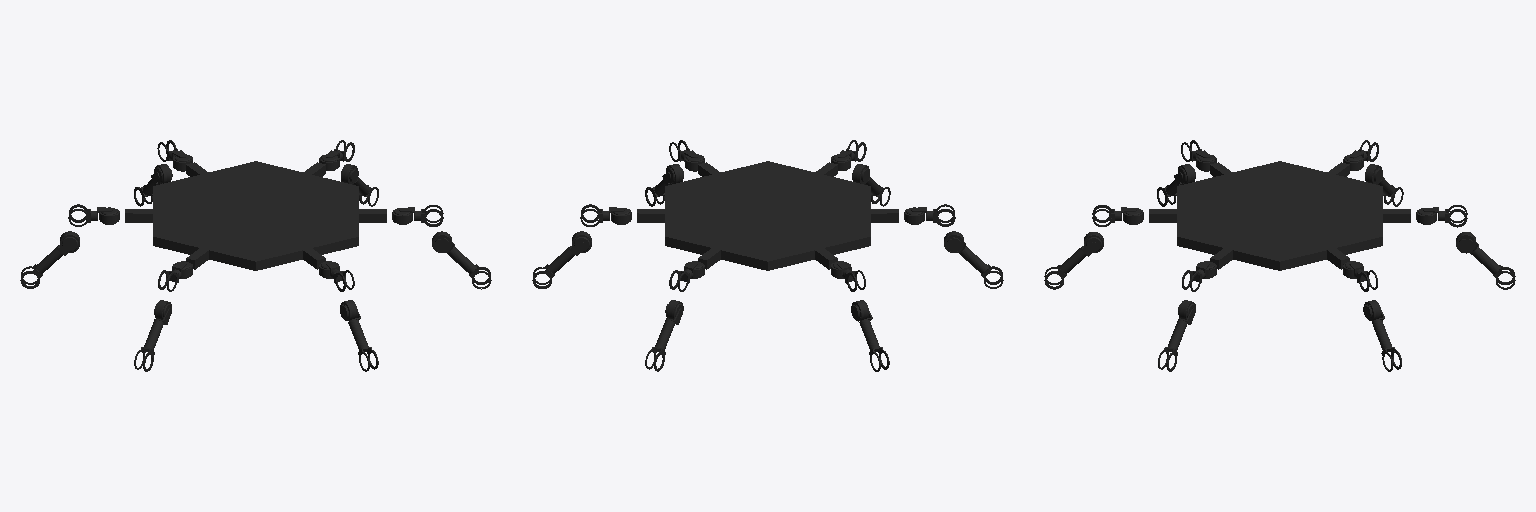
--- What the picture shows (computed from the rendered views, not written in the file) ---
3 views of the same robot in one strip: view 1: azimuth 30°, elevation 25°; view 2: azimuth 150°, elevation 25°; view 3: azimuth 270°, elevation 25° (orthographic).
Model worms with 32 links and 31 joints (18 revolute, 13 fixed), rooted at base_link, posed all joints at 0.
Visible links, largest first — view 1: MP_BODY, thigh_lr, thigh_rf, thigh_rm, thigh_rr, coxa_lr, coxa_rf, thigh_lm, thigh_lf, coxa_rr, coxa_rm; view 2: MP_BODY, thigh_lf, thigh_rr, thigh_lr, thigh_lm, coxa_rr, coxa_lf, thigh_rf, thigh_rm, coxa_lm, coxa_lr; view 3: MP_BODY, thigh_lm, thigh_rm, thigh_lf, thigh_rf, coxa_rm, coxa_lm, thigh_rr, thigh_lr, coxa_rf, coxa_lf.
Boxes of the visible links, x1=… form: MP_BODY: x1=153, y1=161, x2=358, y2=270; thigh_lr: x1=20, y1=231, x2=79, y2=288; thigh_rf: x1=432, y1=231, x2=491, y2=289; thigh_rm: x1=340, y1=300, x2=378, y2=371; thigh_rr: x1=134, y1=300, x2=171, y2=371; coxa_lr: x1=68, y1=204, x2=119, y2=226; coxa_rf: x1=392, y1=205, x2=443, y2=226; thigh_lm: x1=134, y1=164, x2=172, y2=206; thigh_lf: x1=341, y1=164, x2=378, y2=206; coxa_rr: x1=158, y1=261, x2=192, y2=291; coxa_rm: x1=319, y1=261, x2=354, y2=291; MP_BODY: x1=665, y1=161, x2=870, y2=270; thigh_lf: x1=532, y1=231, x2=591, y2=288; thigh_rr: x1=944, y1=231, x2=1003, y2=288; thigh_lr: x1=851, y1=300, x2=889, y2=371; thigh_lm: x1=645, y1=300, x2=683, y2=371; coxa_rr: x1=904, y1=204, x2=955, y2=226; coxa_lf: x1=580, y1=204, x2=631, y2=226; thigh_rf: x1=645, y1=164, x2=683, y2=206; thigh_rm: x1=852, y1=164, x2=890, y2=206; coxa_lm: x1=669, y1=261, x2=704, y2=291; coxa_lr: x1=831, y1=261, x2=865, y2=291; MP_BODY: x1=1177, y1=161, x2=1382, y2=270; thigh_lm: x1=1456, y1=232, x2=1515, y2=289; thigh_rm: x1=1044, y1=232, x2=1103, y2=289; thigh_lf: x1=1363, y1=300, x2=1401, y2=371; thigh_rf: x1=1158, y1=300, x2=1195, y2=371; coxa_rm: x1=1092, y1=205, x2=1143, y2=226; coxa_lm: x1=1416, y1=205, x2=1467, y2=227; thigh_rr: x1=1157, y1=164, x2=1195, y2=206; thigh_lr: x1=1365, y1=164, x2=1403, y2=206; coxa_rf: x1=1182, y1=261, x2=1216, y2=291; coxa_lf: x1=1343, y1=261, x2=1377, y2=291.
Size in the robot's own frame: 2 by 2.28 by 0.4291 metres.
25 mesh visuals loaded from 6 distinct referenced files (5 binary STL); not drawn: 6 (reference not matched to a file when rendering).

The robot description file, URDF, robot "worms":
<?xml version="1.0" ?>
<!-- =================================================================================== -->
<!-- |    This document was autogenerated by xacro from worms.xacro                    | -->
<!-- |    EDITING THIS FILE BY HAND IS NOT RECOMMENDED                                 | -->
<!-- =================================================================================== -->
<robot name="worms">
  <!-- <xacro:property name="thigh_offset_y" value="-0.0645" />
<xacro:property name="thigh_offset_z" value="-0.0145" /> -->
  <!-- TODO: Update component masses and inertias -->
  <!-- TODO: Add second ee, uib, and shoe -->
  <!-- Leg generation sub-macro -->
  <link name="base_link"/>
  <joint name="j_worms_attachment" type="fixed">
    <parent link="base_link"/>
    <child link="MP_BODY"/>
    <insert_block name="origin"/>
  </joint>
  <link name="MP_BODY">
    <inertial>
      <origin rpy="0 0 1.57" xyz="0 0 0"/>
      <!-- <mass value="0.97559947"/> -->
      <mass value="0.01"/>
      <inertia ixx="3.1081800" ixy="-0.25460189" ixz="2.0318174" iyy="6.3787776" iyz="0.16417863" izz="5.3316425"/>
    </inertial>
    <visual>
      <origin rpy="0 0 1.57" xyz="0 0 0"/>
      <geometry>
        <!--box size="0.102 0.109 0.106" /-->
        <mesh filename="package://worms_description/meshes/pallet.STL" scale="1 1 1"/>
      </geometry>
      <material name="Red">
        <color rgba="0.2 0.2 0.2 1.0"/>
      </material>
    </visual>
    <collision>
      <origin rpy="0 0 0" xyz="0 0 0"/>
      <geometry>
        <mesh filename="package://worms_description/meshes/pallet_coll.STL" scale="1 1 1"/>
      </geometry>
    </collision>
  </link>
  <gazebo reference="MP_BODY">
    <material>Gazebo/Red</material>
  </gazebo>
  <link name="uib_rf">
    <inertial>
      <origin rpy="0 0 0" xyz="0 -0.04 0"/>
      <mass value="0.024357719"/>
      <inertia ixx="0.0051411124" ixy="-0.00057530255" ixz="-0.000024729049" iyy="0.0081915737" iyz="-0.000019223094" izz="0.0011379812"/>
    </inertial>
    <visual>
      <origin rpy="0 0 0" xyz="0 -0.04 0"/>
      <geometry>
        <mesh filename="package://worms_description/meshes/UIB.STL" scale="1 1 1"/>
      </geometry>
      <material name="Grey">
        <color rgba="0.20 0.20 0.20 1.0"/>
      </material>
    </visual>
    <collision>
      <origin rpy="0 0 0" xyz="0 -0.04 0"/>
      <geometry>
        <mesh filename="package://worms_description/meshes/UIB.STL" scale="1 1 1"/>
      </geometry>
    </collision>
  </link>
  <link name="ee_rf">
    <inertial>
      <origin rpy="0 0 0" xyz="0 -0.0275 0"/>
      <mass value="0.024357719"/>
      <inertia ixx="0.0051411124" ixy="-0.00057530255" ixz="-0.000024729049" iyy="0.0081915737" iyz="-0.000019223094" izz="0.0011379812"/>
    </inertial>
    <visual>
      <origin rpy="0 0 0" xyz="0 -0.0275 0"/>
      <geometry>
        <mesh filename="package://worms_description/meshes/end_effector.STL" scale="1 1 1"/>
      </geometry>
      <material name="Grey">
        <color rgba="0.20 0.20 0.20 1.0"/>
      </material>
    </visual>
    <collision>
      <origin rpy="0 0 0" xyz="0 -0.0275 0"/>
      <geometry>
        <mesh filename="package://worms_description/meshes/end_effector.STL" scale="1 1 1"/>
      </geometry>
    </collision>
  </link>
  <link name="coxa_rf">
    <inertial>
      <origin rpy="0 0 0" xyz="0 -0.05 0"/>
      <mass value="0.024357719"/>
      <inertia ixx="0.0051411124" ixy="-0.00057530255" ixz="-0.000024729049" iyy="0.0081915737" iyz="-0.000019223094" izz="0.0011379812"/>
    </inertial>
    <visual>
      <origin rpy="0 0 0" xyz="0 -0.05 0"/>
      <geometry>
        <mesh filename="package://worms_description/meshes/motor_coxa.stl" scale="1 1 1"/>
      </geometry>
      <material name="Grey">
        <color rgba="0.20 0.20 0.20 1.0"/>
      </material>
    </visual>
    <collision>
      <origin rpy="0 0 0" xyz="0 -0.05 0"/>
      <geometry>
        <mesh filename="package://worms_description/meshes/motor_coxa.stl" scale="1 1 1"/>
      </geometry>
    </collision>
  </link>
  <link name="thigh_rf">
    <inertial>
      <origin rpy="0 0 0" xyz="0 -0.19999999999999998 0"/>
      <mass value="0.024357719"/>
      <inertia ixx="0.0051411124" ixy="-0.00057530255" ixz="-0.000024729049" iyy="0.0081915737" iyz="-0.000019223094" izz="0.0011379812"/>
    </inertial>
    <visual>
      <origin rpy="0 0 0" xyz="0 -0.19999999999999998 0"/>
      <geometry>
        <mesh filename="package://worms_description/meshes/motor_thigh.stl" scale="1 1 1"/>
      </geometry>
      <material name="Grey">
        <color rgba="0.20 0.20 0.20 1.0"/>
      </material>
    </visual>
    <collision>
      <origin rpy="0 0 0" xyz="0 -0.19999999999999998 0"/>
      <geometry>
        <mesh filename="package://worms_description/meshes/motor_thigh.stl" scale="1 1 1"/>
      </geometry>
    </collision>
  </link>
  <link name="shin_rf">
    <inertial>
      <origin rpy="0 0 0" xyz="0 -0.2625 0"/>
      <mass value="0.024357719"/>
      <inertia ixx="0.0051411124" ixy="-0.00057530255" ixz="-0.000024729049" iyy="0.0081915737" iyz="-0.000019223094" izz="0.0011379812"/>
    </inertial>
    <visual>
      <origin rpy="0 0 0" xyz="0 -0.2625 0"/>
      <geometry>
        <mesh filename="package://worms_description/meshes/motor_shin.stl" scale="1 1 1"/>
      </geometry>
      <material name="Grey">
        <color rgba="0.20 0.20 0.20 1.0"/>
      </material>
    </visual>
    <collision>
      <origin rpy="0 0 0" xyz="0 -0.2625 0"/>
      <geometry>
        <mesh filename="package://worms_description/meshes/motor_shin.stl" scale="1 1 1"/>
      </geometry>
    </collision>
  </link>
  <!-- Joint definitions -->
  <joint name="j_uib_rf" type="fixed">
    <parent link="MP_BODY"/>
    <child link="uib_rf"/>
    <origin rpy="0 0 1.05" xyz="0.4330 -0.2500 0.0000"/>
    <axis xyz="1 0 0"/>
    <limit effort="2.8" lower="-2.6179939" upper="2.6179939" velocity="5.6548668"/>
  </joint>
  <joint name="j_ee_rf" type="fixed">
    <parent link="uib_rf"/>
    <child link="ee_rf"/>
    <origin rpy="0 0 0" xyz="0 -0.08 0"/>
    <axis xyz="1 0 0"/>
    <limit effort="2.8" lower="-2.6179939" upper="2.6179939" velocity="5.6548668"/>
  </joint>
  <joint name="j_coxa_rf" type="revolute">
    <parent link="ee_rf"/>
    <child link="coxa_rf"/>
    <origin rpy="0 0 0" xyz="0 -0.08 0"/>
    <axis xyz="0 0 1"/>
    <limit effort="2.8" lower="-2.6179939" upper="2.6179939" velocity="5.6548668"/>
  </joint>
  <joint name="j_thigh_rf" type="revolute">
    <parent link="coxa_rf"/>
    <child link="thigh_rf"/>
    <origin rpy="0.785 0 0" xyz="0 -0.1 0"/>
    <axis xyz="1 0 0"/>
    <limit effort="2.8" lower="-2.6179939" upper="2.6179939" velocity="5.6548668"/>
  </joint>
  <joint name="j_shin_rf" type="revolute">
    <parent link="thigh_rf"/>
    <child link="shin_rf"/>
    <origin rpy="0.785 0 0" xyz="0 -0.39999999999999997 0"/>
    <axis xyz="1 0 0"/>
    <limit effort="2.8" lower="-2.6179939" upper="2.6179939" velocity="5.6548668"/>
  </joint>
  <!-- Joint transmission definitions -->
  <transmission name="t_coxa_rf">
    <type>transmission_interface/SimpleTransmission</type>
    <joint name="j_coxa_rf">
      <hardwareInterface>EffortJointInterface</hardwareInterface>
    </joint>
    <actuator name="m_coxa_rf">
      <hardwareInterface>EffortJointInterface</hardwareInterface>
      <mechanicalReduction>1</mechanicalReduction>
    </actuator>
  </transmission>
  <transmission name="t_thigh_rf">
    <type>transmission_interface/SimpleTransmission</type>
    <joint name="j_thigh_rf">
      <hardwareInterface>EffortJointInterface</hardwareInterface>
    </joint>
    <actuator name="m_thigh_rf">
      <hardwareInterface>EffortJointInterface</hardwareInterface>
      <mechanicalReduction>1</mechanicalReduction>
    </actuator>
  </transmission>
  <transmission name="t_shin_rf">
    <type>transmission_interface/SimpleTransmission</type>
    <joint name="j_shin_rf">
      <hardwareInterface>EffortJointInterface</hardwareInterface>
    </joint>
    <actuator name="m_shin_rf">
      <hardwareInterface>EffortJointInterface</hardwareInterface>
      <mechanicalReduction>1</mechanicalReduction>
    </actuator>
  </transmission>
  <!-- Gazebo material definitions -->
  <gazebo reference="uib_rf">
    <material>Gazebo/Grey</material>
  </gazebo>
  <gazebo reference="ee_rf">
    <material>Gazebo/Grey</material>
  </gazebo>
  <gazebo reference="coxa_rf">
    <material>Gazebo/Grey</material>
  </gazebo>
  <gazebo reference="thigh_rf">
    <material>Gazebo/Grey</material>
  </gazebo>
  <gazebo reference="shin_rf">
    <material>Gazebo/Grey</material>
  </gazebo>
  <link name="uib_rm">
    <inertial>
      <origin rpy="0 0 0" xyz="0 -0.04 0"/>
      <mass value="0.024357719"/>
      <inertia ixx="0.0051411124" ixy="-0.00057530255" ixz="-0.000024729049" iyy="0.0081915737" iyz="-0.000019223094" izz="0.0011379812"/>
    </inertial>
    <visual>
      <origin rpy="0 0 0" xyz="0 -0.04 0"/>
      <geometry>
        <mesh filename="package://worms_description/meshes/UIB.STL" scale="1 1 1"/>
      </geometry>
      <material name="Grey">
        <color rgba="0.20 0.20 0.20 1.0"/>
      </material>
    </visual>
    <collision>
      <origin rpy="0 0 0" xyz="0 -0.04 0"/>
      <geometry>
        <mesh filename="package://worms_description/meshes/UIB.STL" scale="1 1 1"/>
      </geometry>
    </collision>
  </link>
  <link name="ee_rm">
    <inertial>
      <origin rpy="0 0 0" xyz="0 -0.0275 0"/>
      <mass value="0.024357719"/>
      <inertia ixx="0.0051411124" ixy="-0.00057530255" ixz="-0.000024729049" iyy="0.0081915737" iyz="-0.000019223094" izz="0.0011379812"/>
    </inertial>
    <visual>
      <origin rpy="0 0 0" xyz="0 -0.0275 0"/>
      <geometry>
        <mesh filename="package://worms_description/meshes/end_effector.STL" scale="1 1 1"/>
      </geometry>
      <material name="Grey">
        <color rgba="0.20 0.20 0.20 1.0"/>
      </material>
    </visual>
    <collision>
      <origin rpy="0 0 0" xyz="0 -0.0275 0"/>
      <geometry>
        <mesh filename="package://worms_description/meshes/end_effector.STL" scale="1 1 1"/>
      </geometry>
    </collision>
  </link>
  <link name="coxa_rm">
    <inertial>
      <origin rpy="0 0 0" xyz="0 -0.05 0"/>
      <mass value="0.024357719"/>
      <inertia ixx="0.0051411124" ixy="-0.00057530255" ixz="-0.000024729049" iyy="0.0081915737" iyz="-0.000019223094" izz="0.0011379812"/>
    </inertial>
    <visual>
      <origin rpy="0 0 0" xyz="0 -0.05 0"/>
      <geometry>
        <mesh filename="package://worms_description/meshes/motor_coxa.stl" scale="1 1 1"/>
      </geometry>
      <material name="Grey">
        <color rgba="0.20 0.20 0.20 1.0"/>
      </material>
    </visual>
    <collision>
      <origin rpy="0 0 0" xyz="0 -0.05 0"/>
      <geometry>
        <mesh filename="package://worms_description/meshes/motor_coxa.stl" scale="1 1 1"/>
      </geometry>
    </collision>
  </link>
  <link name="thigh_rm">
    <inertial>
      <origin rpy="0 0 0" xyz="0 -0.19999999999999998 0"/>
      <mass value="0.024357719"/>
      <inertia ixx="0.0051411124" ixy="-0.00057530255" ixz="-0.000024729049" iyy="0.0081915737" iyz="-0.000019223094" izz="0.0011379812"/>
    </inertial>
    <visual>
      <origin rpy="0 0 0" xyz="0 -0.19999999999999998 0"/>
      <geometry>
        <mesh filename="package://worms_description/meshes/motor_thigh.stl" scale="1 1 1"/>
      </geometry>
      <material name="Grey">
        <color rgba="0.20 0.20 0.20 1.0"/>
      </material>
    </visual>
    <collision>
      <origin rpy="0 0 0" xyz="0 -0.19999999999999998 0"/>
      <geometry>
        <mesh filename="package://worms_description/meshes/motor_thigh.stl" scale="1 1 1"/>
      </geometry>
    </collision>
  </link>
  <link name="shin_rm">
    <inertial>
      <origin rpy="0 0 0" xyz="0 -0.2625 0"/>
      <mass value="0.024357719"/>
      <inertia ixx="0.0051411124" ixy="-0.00057530255" ixz="-0.000024729049" iyy="0.0081915737" iyz="-0.000019223094" izz="0.0011379812"/>
    </inertial>
    <visual>
      <origin rpy="0 0 0" xyz="0 -0.2625 0"/>
      <geometry>
        <mesh filename="package://worms_description/meshes/motor_shin.stl" scale="1 1 1"/>
      </geometry>
      <material name="Grey">
        <color rgba="0.20 0.20 0.20 1.0"/>
      </material>
    </visual>
    <collision>
      <origin rpy="0 0 0" xyz="0 -0.2625 0"/>
      <geometry>
        <mesh filename="package://worms_description/meshes/motor_shin.stl" scale="1 1 1"/>
      </geometry>
    </collision>
  </link>
  <!-- Joint definitions -->
  <joint name="j_uib_rm" type="fixed">
    <parent link="MP_BODY"/>
    <child link="uib_rm"/>
    <origin rpy="0 0 0.0" xyz="0.0000 -0.5000 0.0000"/>
    <axis xyz="1 0 0"/>
    <limit effort="2.8" lower="-2.6179939" upper="2.6179939" velocity="5.6548668"/>
  </joint>
  <joint name="j_ee_rm" type="fixed">
    <parent link="uib_rm"/>
    <child link="ee_rm"/>
    <origin rpy="0 0 0" xyz="0 -0.08 0"/>
    <axis xyz="1 0 0"/>
    <limit effort="2.8" lower="-2.6179939" upper="2.6179939" velocity="5.6548668"/>
  </joint>
  <joint name="j_coxa_rm" type="revolute">
    <parent link="ee_rm"/>
    <child link="coxa_rm"/>
    <origin rpy="0 0 0" xyz="0 -0.08 0"/>
    <axis xyz="0 0 1"/>
    <limit effort="2.8" lower="-2.6179939" upper="2.6179939" velocity="5.6548668"/>
  </joint>
  <joint name="j_thigh_rm" type="revolute">
    <parent link="coxa_rm"/>
    <child link="thigh_rm"/>
    <origin rpy="0.785 0 0" xyz="0 -0.1 0"/>
    <axis xyz="1 0 0"/>
    <limit effort="2.8" lower="-2.6179939" upper="2.6179939" velocity="5.6548668"/>
  </joint>
  <joint name="j_shin_rm" type="revolute">
    <parent link="thigh_rm"/>
    <child link="shin_rm"/>
    <origin rpy="0.785 0 0" xyz="0 -0.39999999999999997 0"/>
    <axis xyz="1 0 0"/>
    <limit effort="2.8" lower="-2.6179939" upper="2.6179939" velocity="5.6548668"/>
  </joint>
  <!-- Joint transmission definitions -->
  <transmission name="t_coxa_rm">
    <type>transmission_interface/SimpleTransmission</type>
    <joint name="j_coxa_rm">
      <hardwareInterface>EffortJointInterface</hardwareInterface>
    </joint>
    <actuator name="m_coxa_rm">
      <hardwareInterface>EffortJointInterface</hardwareInterface>
      <mechanicalReduction>1</mechanicalReduction>
    </actuator>
  </transmission>
  <transmission name="t_thigh_rm">
    <type>transmission_interface/SimpleTransmission</type>
    <joint name="j_thigh_rm">
      <hardwareInterface>EffortJointInterface</hardwareInterface>
    </joint>
    <actuator name="m_thigh_rm">
      <hardwareInterface>EffortJointInterface</hardwareInterface>
      <mechanicalReduction>1</mechanicalReduction>
    </actuator>
  </transmission>
  <transmission name="t_shin_rm">
    <type>transmission_interface/SimpleTransmission</type>
    <joint name="j_shin_rm">
      <hardwareInterface>EffortJointInterface</hardwareInterface>
    </joint>
    <actuator name="m_shin_rm">
      <hardwareInterface>EffortJointInterface</hardwareInterface>
      <mechanicalReduction>1</mechanicalReduction>
    </actuator>
  </transmission>
  <!-- Gazebo material definitions -->
  <gazebo reference="uib_rm">
    <material>Gazebo/Grey</material>
  </gazebo>
  <gazebo reference="ee_rm">
    <material>Gazebo/Grey</material>
  </gazebo>
  <gazebo reference="coxa_rm">
    <material>Gazebo/Grey</material>
  </gazebo>
  <gazebo reference="thigh_rm">
    <material>Gazebo/Grey</material>
  </gazebo>
  <gazebo reference="shin_rm">
    <material>Gazebo/Grey</material>
  </gazebo>
  <link name="uib_rr">
    <inertial>
      <origin rpy="0 0 0" xyz="0 -0.04 0"/>
      <mass value="0.024357719"/>
      <inertia ixx="0.0051411124" ixy="-0.00057530255" ixz="-0.000024729049" iyy="0.0081915737" iyz="-0.000019223094" izz="0.0011379812"/>
    </inertial>
    <visual>
      <origin rpy="0 0 0" xyz="0 -0.04 0"/>
      <geometry>
        <mesh filename="package://worms_description/meshes/UIB.STL" scale="1 1 1"/>
      </geometry>
      <material name="Grey">
        <color rgba="0.20 0.20 0.20 1.0"/>
      </material>
    </visual>
    <collision>
      <origin rpy="0 0 0" xyz="0 -0.04 0"/>
      <geometry>
        <mesh filename="package://worms_description/meshes/UIB.STL" scale="1 1 1"/>
      </geometry>
    </collision>
  </link>
  <link name="ee_rr">
    <inertial>
      <origin rpy="0 0 0" xyz="0 -0.0275 0"/>
      <mass value="0.024357719"/>
      <inertia ixx="0.0051411124" ixy="-0.00057530255" ixz="-0.000024729049" iyy="0.0081915737" iyz="-0.000019223094" izz="0.0011379812"/>
    </inertial>
    <visual>
      <origin rpy="0 0 0" xyz="0 -0.0275 0"/>
      <geometry>
        <mesh filename="package://worms_description/meshes/end_effector.STL" scale="1 1 1"/>
      </geometry>
      <material name="Grey">
        <color rgba="0.20 0.20 0.20 1.0"/>
      </material>
    </visual>
    <collision>
      <origin rpy="0 0 0" xyz="0 -0.0275 0"/>
      <geometry>
        <mesh filename="package://worms_description/meshes/end_effector.STL" scale="1 1 1"/>
      </geometry>
    </collision>
  </link>
  <link name="coxa_rr">
    <inertial>
      <origin rpy="0 0 0" xyz="0 -0.05 0"/>
      <mass value="0.024357719"/>
      <inertia ixx="0.0051411124" ixy="-0.00057530255" ixz="-0.000024729049" iyy="0.0081915737" iyz="-0.000019223094" izz="0.0011379812"/>
    </inertial>
    <visual>
      <origin rpy="0 0 0" xyz="0 -0.05 0"/>
      <geometry>
        <mesh filename="package://worms_description/meshes/motor_coxa.stl" scale="1 1 1"/>
      </geometry>
      <material name="Grey">
        <color rgba="0.20 0.20 0.20 1.0"/>
      </material>
    </visual>
    <collision>
      <origin rpy="0 0 0" xyz="0 -0.05 0"/>
      <geometry>
        <mesh filename="package://worms_description/meshes/motor_coxa.stl" scale="1 1 1"/>
      </geometry>
    </collision>
  </link>
  <link name="thigh_rr">
    <inertial>
      <origin rpy="0 0 0" xyz="0 -0.19999999999999998 0"/>
      <mass value="0.024357719"/>
      <inertia ixx="0.0051411124" ixy="-0.00057530255" ixz="-0.000024729049" iyy="0.0081915737" iyz="-0.000019223094" izz="0.0011379812"/>
    </inertial>
    <visual>
      <origin rpy="0 0 0" xyz="0 -0.19999999999999998 0"/>
      <geometry>
        <mesh filename="package://worms_description/meshes/motor_thigh.stl" scale="1 1 1"/>
      </geometry>
      <material name="Grey">
        <color rgba="0.20 0.20 0.20 1.0"/>
      </material>
    </visual>
    <collision>
      <origin rpy="0 0 0" xyz="0 -0.19999999999999998 0"/>
      <geometry>
        <mesh filename="package://worms_description/meshes/motor_thigh.stl" scale="1 1 1"/>
      </geometry>
    </collision>
  </link>
  <link name="shin_rr">
    <inertial>
      <origin rpy="0 0 0" xyz="0 -0.2625 0"/>
      <mass value="0.024357719"/>
      <inertia ixx="0.0051411124" ixy="-0.00057530255" ixz="-0.000024729049" iyy="0.0081915737" iyz="-0.000019223094" izz="0.0011379812"/>
    </inertial>
    <visual>
      <origin rpy="0 0 0" xyz="0 -0.2625 0"/>
      <geometry>
        <mesh filename="package://worms_description/meshes/motor_shin.stl" scale="1 1 1"/>
      </geometry>
      <material name="Grey">
        <color rgba="0.20 0.20 0.20 1.0"/>
      </material>
    </visual>
    <collision>
      <origin rpy="0 0 0" xyz="0 -0.2625 0"/>
      <geometry>
        <mesh filename="package://worms_description/meshes/motor_shin.stl" scale="1 1 1"/>
      </geometry>
    </collision>
  </link>
  <!-- Joint definitions -->
  <joint name="j_uib_rr" type="fixed">
    <parent link="MP_BODY"/>
    <child link="uib_rr"/>
    <origin rpy="0 0 -1.0400000000000003" xyz="-0.4330 -0.2500 0.0000"/>
    <axis xyz="1 0 0"/>
    <limit effort="2.8" lower="-2.6179939" upper="2.6179939" velocity="5.6548668"/>
  </joint>
  <joint name="j_ee_rr" type="fixed">
    <parent link="uib_rr"/>
    <child link="ee_rr"/>
    <origin rpy="0 0 0" xyz="0 -0.08 0"/>
    <axis xyz="1 0 0"/>
    <limit effort="2.8" lower="-2.6179939" upper="2.6179939" velocity="5.6548668"/>
  </joint>
  <joint name="j_coxa_rr" type="revolute">
    <parent link="ee_rr"/>
    <child link="coxa_rr"/>
    <origin rpy="0 0 0" xyz="0 -0.08 0"/>
    <axis xyz="0 0 1"/>
    <limit effort="2.8" lower="-2.6179939" upper="2.6179939" velocity="5.6548668"/>
  </joint>
  <joint name="j_thigh_rr" type="revolute">
    <parent link="coxa_rr"/>
    <child link="thigh_rr"/>
    <origin rpy="0.785 0 0" xyz="0 -0.1 0"/>
    <axis xyz="1 0 0"/>
    <limit effort="2.8" lower="-2.6179939" upper="2.6179939" velocity="5.6548668"/>
  </joint>
  <joint name="j_shin_rr" type="revolute">
    <parent link="thigh_rr"/>
    <child link="shin_rr"/>
    <origin rpy="0.785 0 0" xyz="0 -0.39999999999999997 0"/>
    <axis xyz="1 0 0"/>
    <limit effort="2.8" lower="-2.6179939" upper="2.6179939" velocity="5.6548668"/>
  </joint>
  <!-- Joint transmission definitions -->
  <transmission name="t_coxa_rr">
    <type>transmission_interface/SimpleTransmission</type>
    <joint name="j_coxa_rr">
      <hardwareInterface>EffortJointInterface</hardwareInterface>
    </joint>
    <actuator name="m_coxa_rr">
      <hardwareInterface>EffortJointInterface</hardwareInterface>
      <mechanicalReduction>1</mechanicalReduction>
    </actuator>
  </transmission>
  <transmission name="t_thigh_rr">
    <type>transmission_interface/SimpleTransmission</type>
    <joint name="j_thigh_rr">
      <hardwareInterface>EffortJointInterface</hardwareInterface>
    </joint>
    <actuator name="m_thigh_rr">
      <hardwareInterface>EffortJointInterface</hardwareInterface>
      <mechanicalReduction>1</mechanicalReduction>
    </actuator>
  </transmission>
  <transmission name="t_shin_rr">
    <type>transmission_interface/SimpleTransmission</type>
    <joint name="j_shin_rr">
      <hardwareInterface>EffortJointInterface</hardwareInterface>
    </joint>
    <actuator name="m_shin_rr">
      <hardwareInterface>EffortJointInterface</hardwareInterface>
      <mechanicalReduction>1</mechanicalReduction>
    </actuator>
  </transmission>
  <!-- Gazebo material definitions -->
  <gazebo reference="uib_rr">
    <material>Gazebo/Grey</material>
  </gazebo>
  <gazebo reference="ee_rr">
    <material>Gazebo/Grey</material>
  </gazebo>
  <gazebo reference="coxa_rr">
    <material>Gazebo/Grey</material>
  </gazebo>
  <gazebo reference="thigh_rr">
    <material>Gazebo/Grey</material>
  </gazebo>
  <gazebo reference="shin_rr">
    <material>Gazebo/Grey</material>
  </gazebo>
  <link name="uib_lf">
    <inertial>
      <origin rpy="0 0 0" xyz="0 -0.04 0"/>
      <mass value="0.024357719"/>
      <inertia ixx="0.0051411124" ixy="-0.00057530255" ixz="-0.000024729049" iyy="0.0081915737" iyz="-0.000019223094" izz="0.0011379812"/>
    </inertial>
    <visual>
      <origin rpy="0 0 0" xyz="0 -0.04 0"/>
      <geometry>
        <mesh filename="package://worms_description/meshes/UIB.STL" scale="1 1 1"/>
      </geometry>
      <material name="Grey">
        <color rgba="0.20 0.20 0.20 1.0"/>
      </material>
    </visual>
    <collision>
      <origin rpy="0 0 0" xyz="0 -0.04 0"/>
      <geometry>
        <mesh filename="package://worms_description/meshes/UIB.STL" scale="1 1 1"/>
      </geometry>
    </collision>
  </link>
  <link name="ee_lf">
    <inertial>
      <origin rpy="0 0 0" xyz="0 -0.0275 0"/>
      <mass value="0.024357719"/>
      <inertia ixx="0.0051411124" ixy="-0.00057530255" ixz="-0.000024729049" iyy="0.0081915737" iyz="-0.000019223094" izz="0.0011379812"/>
    </inertial>
    <visual>
      <origin rpy="0 0 0" xyz="0 -0.0275 0"/>
      <geometry>
        <mesh filename="package://worms_description/meshes/end_effector.STL" scale="1 1 1"/>
      </geometry>
      <material name="Grey">
        <color rgba="0.20 0.20 0.20 1.0"/>
      </material>
    </visual>
    <collision>
      <origin rpy="0 0 0" xyz="0 -0.0275 0"/>
      <geometry>
        <mesh filename="package://worms_description/meshes/end_effector.STL" scale="1 1 1"/>
      </geometry>
    </collision>
  </link>
  <link name="coxa_lf">
    <inertial>
      <origin rpy="0 0 0" xyz="0 -0.05 0"/>
      <mass value="0.024357719"/>
      <inertia ixx="0.0051411124" ixy="-0.00057530255" ixz="-0.000024729049" iyy="0.0081915737" iyz="-0.000019223094" izz="0.0011379812"/>
    </inertial>
    <visual>
      <origin rpy="0 0 0" xyz="0 -0.05 0"/>
      <geometry>
        <mesh filename="package://worms_description/meshes/motor_coxa.stl" scale="1 1 1"/>
      </geometry>
      <material name="Grey">
        <color rgba="0.20 0.20 0.20 1.0"/>
      </material>
    </visual>
    <collision>
      <origin rpy="0 0 0" xyz="0 -0.05 0"/>
      <geometry>
        <mesh filename="package://worms_description/meshes/motor_coxa.stl" scale="1 1 1"/>
      </geometry>
    </collision>
  </link>
  <link name="thigh_lf">
    <inertial>
      <origin rpy="0 0 0" xyz="0 -0.19999999999999998 0"/>
      <mass value="0.024357719"/>
      <inertia ixx="0.0051411124" ixy="-0.00057530255" ixz="-0.000024729049" iyy="0.0081915737" iyz="-0.000019223094" izz="0.0011379812"/>
    </inertial>
    <visual>
      <origin rpy="0 0 0" xyz="0 -0.19999999999999998 0"/>
      <geometry>
        <mesh filename="package://worms_description/meshes/motor_thigh.stl" scale="1 1 1"/>
      </geometry>
      <material name="Grey">
        <color rgba="0.20 0.20 0.20 1.0"/>
      </material>
    </visual>
    <collision>
      <origin rpy="0 0 0" xyz="0 -0.19999999999999998 0"/>
      <geometry>
        <mesh filename="package://worms_description/meshes/motor_thigh.stl" scale="1 1 1"/>
      </geometry>
    </collision>
  </link>
  <link name="shin_lf">
    <inertial>
      <origin rpy="0 0 0" xyz="0 -0.2625 0"/>
      <mass value="0.024357719"/>
      <inertia ixx="0.0051411124" ixy="-0.00057530255" ixz="-0.000024729049" iyy="0.0081915737" iyz="-0.000019223094" izz="0.0011379812"/>
    </inertial>
    <visual>
      <origin rpy="0 0 0" xyz="0 -0.2625 0"/>
      <geometry>
        <mesh filename="package://worms_description/meshes/motor_shin.stl" scale="1 1 1"/>
      </geometry>
      <material name="Grey">
        <color rgba="0.20 0.20 0.20 1.0"/>
      </material>
    </visual>
    <collision>
      <origin rpy="0 0 0" xyz="0 -0.2625 0"/>
      <geometry>
        <mesh filename="package://worms_description/meshes/motor_shin.stl" scale="1 1 1"/>
      </geometry>
    </collision>
  </link>
  <!-- Joint definitions -->
  <joint name="j_uib_lf" type="fixed">
    <parent link="MP_BODY"/>
    <child link="uib_lf"/>
    <origin rpy="0 0 2.09" xyz="0.4330 0.2500 0.0000"/>
    <axis xyz="1 0 0"/>
    <limit effort="2.8" lower="-2.6179939" upper="2.6179939" velocity="5.6548668"/>
  </joint>
  <joint name="j_ee_lf" type="fixed">
    <parent link="uib_lf"/>
    <child link="ee_lf"/>
    <origin rpy="0 0 0" xyz="0 -0.08 0"/>
    <axis xyz="1 0 0"/>
    <limit effort="2.8" lower="-2.6179939" upper="2.6179939" velocity="5.6548668"/>
  </joint>
  <joint name="j_coxa_lf" type="revolute">
    <parent link="ee_lf"/>
    <child link="coxa_lf"/>
    <origin rpy="0 0 0" xyz="0 -0.08 0"/>
    <axis xyz="0 0 1"/>
    <limit effort="2.8" lower="-2.6179939" upper="2.6179939" velocity="5.6548668"/>
  </joint>
  <joint name="j_thigh_lf" type="revolute">
    <parent link="coxa_lf"/>
    <child link="thigh_lf"/>
    <origin rpy="0.785 0 0" xyz="0 -0.1 0"/>
    <axis xyz="1 0 0"/>
    <limit effort="2.8" lower="-2.6179939" upper="2.6179939" velocity="5.6548668"/>
  </joint>
  <joint name="j_shin_lf" type="revolute">
    <parent link="thigh_lf"/>
    <child link="shin_lf"/>
    <origin rpy="0.785 0 0" xyz="0 -0.39999999999999997 0"/>
    <axis xyz="1 0 0"/>
    <limit effort="2.8" lower="-2.6179939" upper="2.6179939" velocity="5.6548668"/>
  </joint>
  <!-- Joint transmission definitions -->
  <transmission name="t_coxa_lf">
    <type>transmission_interface/SimpleTransmission</type>
    <joint name="j_coxa_lf">
      <hardwareInterface>EffortJointInterface</hardwareInterface>
    </joint>
    <actuator name="m_coxa_lf">
      <hardwareInterface>EffortJointInterface</hardwareInterface>
      <mechanicalReduction>1</mechanicalReduction>
    </actuator>
  </transmission>
  <transmission name="t_thigh_lf">
    <type>transmission_interface/SimpleTransmission</type>
    <joint name="j_thigh_lf">
      <hardwareInterface>EffortJointInterface</hardwareInterface>
    </joint>
    <actuator name="m_thigh_lf">
      <hardwareInterface>EffortJointInterface</hardwareInterface>
      <mechanicalReduction>1</mechanicalReduction>
    </actuator>
  </transmission>
  <transmission name="t_shin_lf">
    <type>transmission_interface/SimpleTransmission</type>
    <joint name="j_shin_lf">
      <hardwareInterface>EffortJointInterface</hardwareInterface>
    </joint>
    <actuator name="m_shin_lf">
      <hardwareInterface>EffortJointInterface</hardwareInterface>
      <mechanicalReduction>1</mechanicalReduction>
    </actuator>
  </transmission>
  <!-- Gazebo material definitions -->
  <gazebo reference="uib_lf">
    <material>Gazebo/Grey</material>
  </gazebo>
  <gazebo reference="ee_lf">
    <material>Gazebo/Grey</material>
  </gazebo>
  <gazebo reference="coxa_lf">
    <material>Gazebo/Grey</material>
  </gazebo>
  <gazebo reference="thigh_lf">
    <material>Gazebo/Grey</material>
  </gazebo>
  <gazebo reference="shin_lf">
    <material>Gazebo/Grey</material>
  </gazebo>
  <link name="uib_lm">
    <inertial>
      <origin rpy="0 0 0" xyz="0 -0.04 0"/>
      <mass value="0.024357719"/>
      <inertia ixx="0.0051411124" ixy="-0.00057530255" ixz="-0.000024729049" iyy="0.0081915737" iyz="-0.000019223094" izz="0.0011379812"/>
    </inertial>
    <visual>
      <origin rpy="0 0 0" xyz="0 -0.04 0"/>
      <geometry>
        <mesh filename="package://worms_description/meshes/UIB.STL" scale="1 1 1"/>
      </geometry>
      <material name="Grey">
        <color rgba="0.20 0.20 0.20 1.0"/>
      </material>
    </visual>
    <collision>
      <origin rpy="0 0 0" xyz="0 -0.04 0"/>
      <geometry>
        <mesh filename="package://worms_description/meshes/UIB.STL" scale="1 1 1"/>
      </geometry>
    </collision>
  </link>
  <link name="ee_lm">
    <inertial>
      <origin rpy="0 0 0" xyz="0 -0.0275 0"/>
      <mass value="0.024357719"/>
      <inertia ixx="0.0051411124" ixy="-0.00057530255" ixz="-0.000024729049" iyy="0.0081915737" iyz="-0.000019223094" izz="0.0011379812"/>
    </inertial>
    <visual>
      <origin rpy="0 0 0" xyz="0 -0.0275 0"/>
      <geometry>
        <mesh filename="package://worms_description/meshes/end_effector.STL" scale="1 1 1"/>
      </geometry>
      <material name="Grey">
        <color rgba="0.20 0.20 0.20 1.0"/>
      </material>
    </visual>
    <collision>
      <origin rpy="0 0 0" xyz="0 -0.0275 0"/>
      <geometry>
        <mesh filename="package://worms_description/meshes/end_effector.STL" scale="1 1 1"/>
      </geometry>
    </collision>
  </link>
  <link name="coxa_lm">
    <inertial>
      <origin rpy="0 0 0" xyz="0 -0.05 0"/>
      <mass value="0.024357719"/>
      <inertia ixx="0.0051411124" ixy="-0.00057530255" ixz="-0.000024729049" iyy="0.0081915737" iyz="-0.000019223094" izz="0.0011379812"/>
    </inertial>
    <visual>
      <origin rpy="0 0 0" xyz="0 -0.05 0"/>
      <geometry>
        <mesh filename="package://worms_description/meshes/motor_coxa.stl" scale="1 1 1"/>
      </geometry>
      <material name="Grey">
        <color rgba="0.20 0.20 0.20 1.0"/>
      </material>
    </visual>
    <collision>
      <origin rpy="0 0 0" xyz="0 -0.05 0"/>
      <geometry>
        <mesh filename="package://worms_description/meshes/motor_coxa.stl" scale="1 1 1"/>
      </geometry>
    </collision>
  </link>
  <link name="thigh_lm">
    <inertial>
      <origin rpy="0 0 0" xyz="0 -0.19999999999999998 0"/>
      <mass value="0.024357719"/>
      <inertia ixx="0.0051411124" ixy="-0.00057530255" ixz="-0.000024729049" iyy="0.0081915737" iyz="-0.000019223094" izz="0.0011379812"/>
    </inertial>
    <visual>
      <origin rpy="0 0 0" xyz="0 -0.19999999999999998 0"/>
      <geometry>
        <mesh filename="package://worms_description/meshes/motor_thigh.stl" scale="1 1 1"/>
      </geometry>
      <material name="Grey">
        <color rgba="0.20 0.20 0.20 1.0"/>
      </material>
    </visual>
    <collision>
      <origin rpy="0 0 0" xyz="0 -0.19999999999999998 0"/>
      <geometry>
        <mesh filename="package://worms_description/meshes/motor_thigh.stl" scale="1 1 1"/>
      </geometry>
    </collision>
  </link>
  <link name="shin_lm">
    <inertial>
      <origin rpy="0 0 0" xyz="0 -0.2625 0"/>
      <mass value="0.024357719"/>
      <inertia ixx="0.0051411124" ixy="-0.00057530255" ixz="-0.000024729049" iyy="0.0081915737" iyz="-0.000019223094" izz="0.0011379812"/>
    </inertial>
    <visual>
      <origin rpy="0 0 0" xyz="0 -0.2625 0"/>
      <geometry>
        <mesh filename="package://worms_description/meshes/motor_shin.stl" scale="1 1 1"/>
      </geometry>
      <material name="Grey">
        <color rgba="0.20 0.20 0.20 1.0"/>
      </material>
    </visual>
    <collision>
      <origin rpy="0 0 0" xyz="0 -0.2625 0"/>
      <geometry>
        <mesh filename="package://worms_description/meshes/motor_shin.stl" scale="1 1 1"/>
      </geometry>
    </collision>
  </link>
  <!-- Joint definitions -->
  <joint name="j_uib_lm" type="fixed">
    <parent link="MP_BODY"/>
    <child link="uib_lm"/>
    <origin rpy="0 0 3.14" xyz="0.0000 0.5000 0.0000"/>
    <axis xyz="1 0 0"/>
    <limit effort="2.8" lower="-2.6179939" upper="2.6179939" velocity="5.6548668"/>
  </joint>
  <joint name="j_ee_lm" type="fixed">
    <parent link="uib_lm"/>
    <child link="ee_lm"/>
    <origin rpy="0 0 0" xyz="0 -0.08 0"/>
    <axis xyz="1 0 0"/>
    <limit effort="2.8" lower="-2.6179939" upper="2.6179939" velocity="5.6548668"/>
  </joint>
  <joint name="j_coxa_lm" type="revolute">
    <parent link="ee_lm"/>
    <child link="coxa_lm"/>
    <origin rpy="0 0 0" xyz="0 -0.08 0"/>
    <axis xyz="0 0 1"/>
    <limit effort="2.8" lower="-2.6179939" upper="2.6179939" velocity="5.6548668"/>
  </joint>
  <joint name="j_thigh_lm" type="revolute">
    <parent link="coxa_lm"/>
    <child link="thigh_lm"/>
    <origin rpy="0.785 0 0" xyz="0 -0.1 0"/>
    <axis xyz="1 0 0"/>
    <limit effort="2.8" lower="-2.6179939" upper="2.6179939" velocity="5.6548668"/>
  </joint>
  <joint name="j_shin_lm" type="revolute">
    <parent link="thigh_lm"/>
    <child link="shin_lm"/>
    <origin rpy="0.785 0 0" xyz="0 -0.39999999999999997 0"/>
    <axis xyz="1 0 0"/>
    <limit effort="2.8" lower="-2.6179939" upper="2.6179939" velocity="5.6548668"/>
  </joint>
  <!-- Joint transmission definitions -->
  <transmission name="t_coxa_lm">
    <type>transmission_interface/SimpleTransmission</type>
    <joint name="j_coxa_lm">
      <hardwareInterface>EffortJointInterface</hardwareInterface>
    </joint>
    <actuator name="m_coxa_lm">
      <hardwareInterface>EffortJointInterface</hardwareInterface>
      <mechanicalReduction>1</mechanicalReduction>
    </actuator>
  </transmission>
  <transmission name="t_thigh_lm">
    <type>transmission_interface/SimpleTransmission</type>
    <joint name="j_thigh_lm">
      <hardwareInterface>EffortJointInterface</hardwareInterface>
    </joint>
    <actuator name="m_thigh_lm">
      <hardwareInterface>EffortJointInterface</hardwareInterface>
      <mechanicalReduction>1</mechanicalReduction>
    </actuator>
  </transmission>
  <transmission name="t_shin_lm">
    <type>transmission_interface/SimpleTransmission</type>
    <joint name="j_shin_lm">
      <hardwareInterface>EffortJointInterface</hardwareInterface>
    </joint>
    <actuator name="m_shin_lm">
      <hardwareInterface>EffortJointInterface</hardwareInterface>
      <mechanicalReduction>1</mechanicalReduction>
    </actuator>
  </transmission>
  <!-- Gazebo material definitions -->
  <gazebo reference="uib_lm">
    <material>Gazebo/Grey</material>
  </gazebo>
  <gazebo reference="ee_lm">
    <material>Gazebo/Grey</material>
  </gazebo>
  <gazebo reference="coxa_lm">
    <material>Gazebo/Grey</material>
  </gazebo>
  <gazebo reference="thigh_lm">
    <material>Gazebo/Grey</material>
  </gazebo>
  <gazebo reference="shin_lm">
    <material>Gazebo/Grey</material>
  </gazebo>
  <link name="uib_lr">
    <inertial>
      <origin rpy="0 0 0" xyz="0 -0.04 0"/>
      <mass value="0.024357719"/>
      <inertia ixx="0.0051411124" ixy="-0.00057530255" ixz="-0.000024729049" iyy="0.0081915737" iyz="-0.000019223094" izz="0.0011379812"/>
    </inertial>
    <visual>
      <origin rpy="0 0 0" xyz="0 -0.04 0"/>
      <geometry>
        <mesh filename="package://worms_description/meshes/UIB.STL" scale="1 1 1"/>
      </geometry>
      <material name="Grey">
        <color rgba="0.20 0.20 0.20 1.0"/>
      </material>
    </visual>
    <collision>
      <origin rpy="0 0 0" xyz="0 -0.04 0"/>
      <geometry>
        <mesh filename="package://worms_description/meshes/UIB.STL" scale="1 1 1"/>
      </geometry>
    </collision>
  </link>
  <link name="ee_lr">
    <inertial>
      <origin rpy="0 0 0" xyz="0 -0.0275 0"/>
      <mass value="0.024357719"/>
      <inertia ixx="0.0051411124" ixy="-0.00057530255" ixz="-0.000024729049" iyy="0.0081915737" iyz="-0.000019223094" izz="0.0011379812"/>
    </inertial>
    <visual>
      <origin rpy="0 0 0" xyz="0 -0.0275 0"/>
      <geometry>
        <mesh filename="package://worms_description/meshes/end_effector.STL" scale="1 1 1"/>
      </geometry>
      <material name="Grey">
        <color rgba="0.20 0.20 0.20 1.0"/>
      </material>
    </visual>
    <collision>
      <origin rpy="0 0 0" xyz="0 -0.0275 0"/>
      <geometry>
        <mesh filename="package://worms_description/meshes/end_effector.STL" scale="1 1 1"/>
      </geometry>
    </collision>
  </link>
  <link name="coxa_lr">
    <inertial>
      <origin rpy="0 0 0" xyz="0 -0.05 0"/>
      <mass value="0.024357719"/>
      <inertia ixx="0.0051411124" ixy="-0.00057530255" ixz="-0.000024729049" iyy="0.0081915737" iyz="-0.000019223094" izz="0.0011379812"/>
    </inertial>
    <visual>
      <origin rpy="0 0 0" xyz="0 -0.05 0"/>
      <geometry>
        <mesh filename="package://worms_description/meshes/motor_coxa.stl" scale="1 1 1"/>
      </geometry>
      <material name="Grey">
        <color rgba="0.20 0.20 0.20 1.0"/>
      </material>
    </visual>
    <collision>
      <origin rpy="0 0 0" xyz="0 -0.05 0"/>
      <geometry>
        <mesh filename="package://worms_description/meshes/motor_coxa.stl" scale="1 1 1"/>
      </geometry>
    </collision>
  </link>
  <link name="thigh_lr">
    <inertial>
      <origin rpy="0 0 0" xyz="0 -0.19999999999999998 0"/>
      <mass value="0.024357719"/>
      <inertia ixx="0.0051411124" ixy="-0.00057530255" ixz="-0.000024729049" iyy="0.0081915737" iyz="-0.000019223094" izz="0.0011379812"/>
    </inertial>
    <visual>
      <origin rpy="0 0 0" xyz="0 -0.19999999999999998 0"/>
      <geometry>
        <mesh filename="package://worms_description/meshes/motor_thigh.stl" scale="1 1 1"/>
      </geometry>
      <material name="Grey">
        <color rgba="0.20 0.20 0.20 1.0"/>
      </material>
    </visual>
    <collision>
      <origin rpy="0 0 0" xyz="0 -0.19999999999999998 0"/>
      <geometry>
        <mesh filename="package://worms_description/meshes/motor_thigh.stl" scale="1 1 1"/>
      </geometry>
    </collision>
  </link>
  <link name="shin_lr">
    <inertial>
      <origin rpy="0 0 0" xyz="0 -0.2625 0"/>
      <mass value="0.024357719"/>
      <inertia ixx="0.0051411124" ixy="-0.00057530255" ixz="-0.000024729049" iyy="0.0081915737" iyz="-0.000019223094" izz="0.0011379812"/>
    </inertial>
    <visual>
      <origin rpy="0 0 0" xyz="0 -0.2625 0"/>
      <geometry>
        <mesh filename="package://worms_description/meshes/motor_shin.stl" scale="1 1 1"/>
      </geometry>
      <material name="Grey">
        <color rgba="0.20 0.20 0.20 1.0"/>
      </material>
    </visual>
    <collision>
      <origin rpy="0 0 0" xyz="0 -0.2625 0"/>
      <geometry>
        <mesh filename="package://worms_description/meshes/motor_shin.stl" scale="1 1 1"/>
      </geometry>
    </collision>
  </link>
  <!-- Joint definitions -->
  <joint name="j_uib_lr" type="fixed">
    <parent link="MP_BODY"/>
    <child link="uib_lr"/>
    <origin rpy="0 0 4.180000000000001" xyz="-0.4330 0.2500 0.0000"/>
    <axis xyz="1 0 0"/>
    <limit effort="2.8" lower="-2.6179939" upper="2.6179939" velocity="5.6548668"/>
  </joint>
  <joint name="j_ee_lr" type="fixed">
    <parent link="uib_lr"/>
    <child link="ee_lr"/>
    <origin rpy="0 0 0" xyz="0 -0.08 0"/>
    <axis xyz="1 0 0"/>
    <limit effort="2.8" lower="-2.6179939" upper="2.6179939" velocity="5.6548668"/>
  </joint>
  <joint name="j_coxa_lr" type="revolute">
    <parent link="ee_lr"/>
    <child link="coxa_lr"/>
    <origin rpy="0 0 0" xyz="0 -0.08 0"/>
    <axis xyz="0 0 1"/>
    <limit effort="2.8" lower="-2.6179939" upper="2.6179939" velocity="5.6548668"/>
  </joint>
  <joint name="j_thigh_lr" type="revolute">
    <parent link="coxa_lr"/>
    <child link="thigh_lr"/>
    <origin rpy="0.785 0 0" xyz="0 -0.1 0"/>
    <axis xyz="1 0 0"/>
    <limit effort="2.8" lower="-2.6179939" upper="2.6179939" velocity="5.6548668"/>
  </joint>
  <joint name="j_shin_lr" type="revolute">
    <parent link="thigh_lr"/>
    <child link="shin_lr"/>
    <origin rpy="0.785 0 0" xyz="0 -0.39999999999999997 0"/>
    <axis xyz="1 0 0"/>
    <limit effort="2.8" lower="-2.6179939" upper="2.6179939" velocity="5.6548668"/>
  </joint>
  <!-- Joint transmission definitions -->
  <transmission name="t_coxa_lr">
    <type>transmission_interface/SimpleTransmission</type>
    <joint name="j_coxa_lr">
      <hardwareInterface>EffortJointInterface</hardwareInterface>
    </joint>
    <actuator name="m_coxa_lr">
      <hardwareInterface>EffortJointInterface</hardwareInterface>
      <mechanicalReduction>1</mechanicalReduction>
    </actuator>
  </transmission>
  <transmission name="t_thigh_lr">
    <type>transmission_interface/SimpleTransmission</type>
    <joint name="j_thigh_lr">
      <hardwareInterface>EffortJointInterface</hardwareInterface>
    </joint>
    <actuator name="m_thigh_lr">
      <hardwareInterface>EffortJointInterface</hardwareInterface>
      <mechanicalReduction>1</mechanicalReduction>
    </actuator>
  </transmission>
  <transmission name="t_shin_lr">
    <type>transmission_interface/SimpleTransmission</type>
    <joint name="j_shin_lr">
      <hardwareInterface>EffortJointInterface</hardwareInterface>
    </joint>
    <actuator name="m_shin_lr">
      <hardwareInterface>EffortJointInterface</hardwareInterface>
      <mechanicalReduction>1</mechanicalReduction>
    </actuator>
  </transmission>
  <!-- Gazebo material definitions -->
  <gazebo reference="uib_lr">
    <material>Gazebo/Grey</material>
  </gazebo>
  <gazebo reference="ee_lr">
    <material>Gazebo/Grey</material>
  </gazebo>
  <gazebo reference="coxa_lr">
    <material>Gazebo/Grey</material>
  </gazebo>
  <gazebo reference="thigh_lr">
    <material>Gazebo/Grey</material>
  </gazebo>
  <gazebo reference="shin_lr">
    <material>Gazebo/Grey</material>
  </gazebo>
  <gazebo>
    <plugin filename="libgazebo_ros_control.so" name="gazebo_ros_control">
      <robotNamespace>/worms/</robotNamespace>
    </plugin>
  </gazebo>
</robot>
